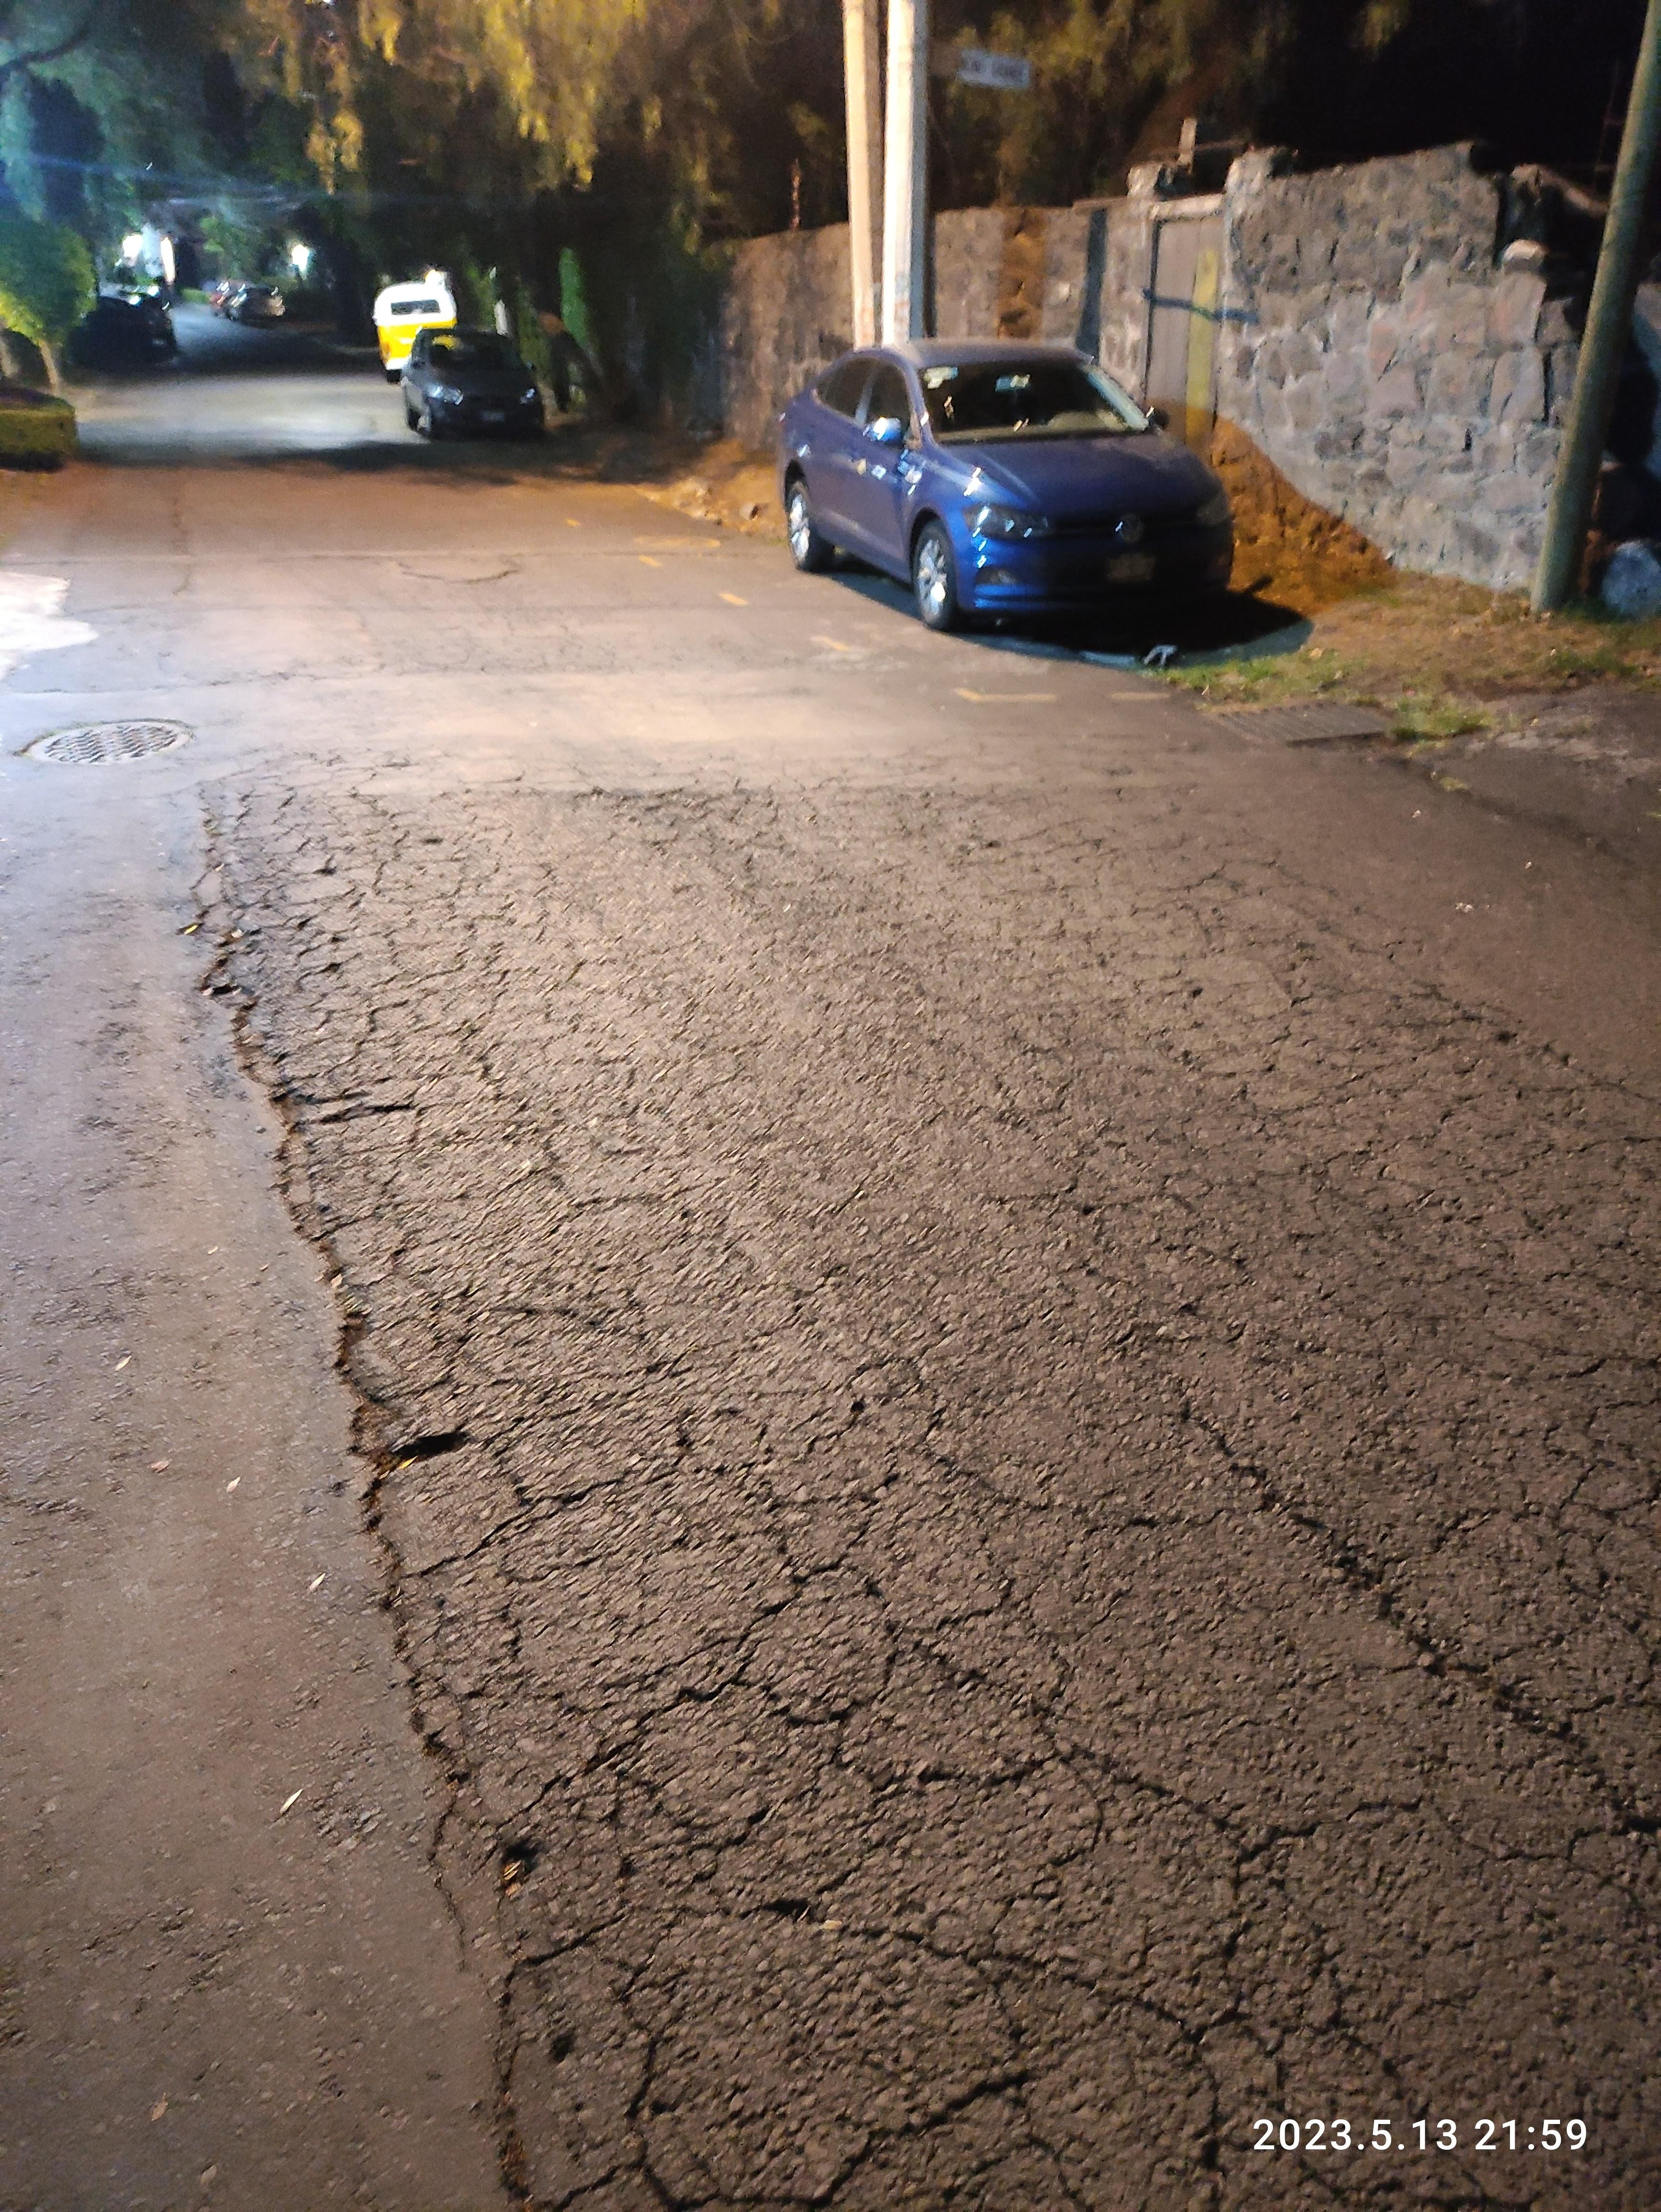alligator-crack: (150, 741, 1661, 2212)
